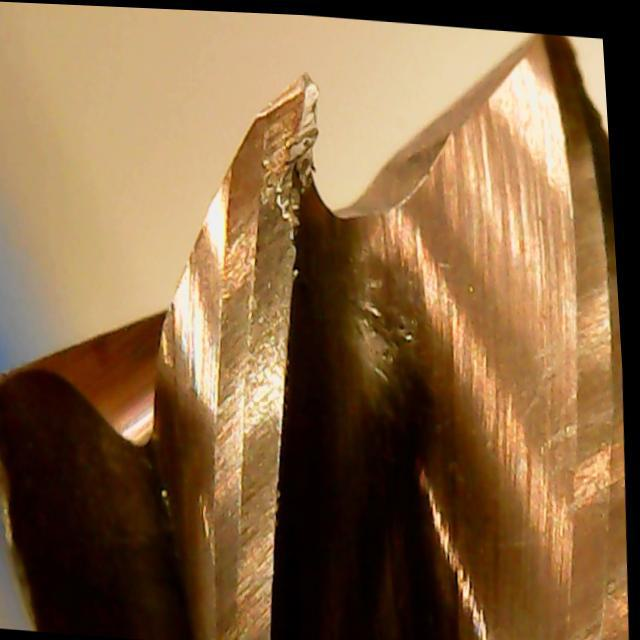Tool-wear-class-1: (196, 61, 360, 288)
